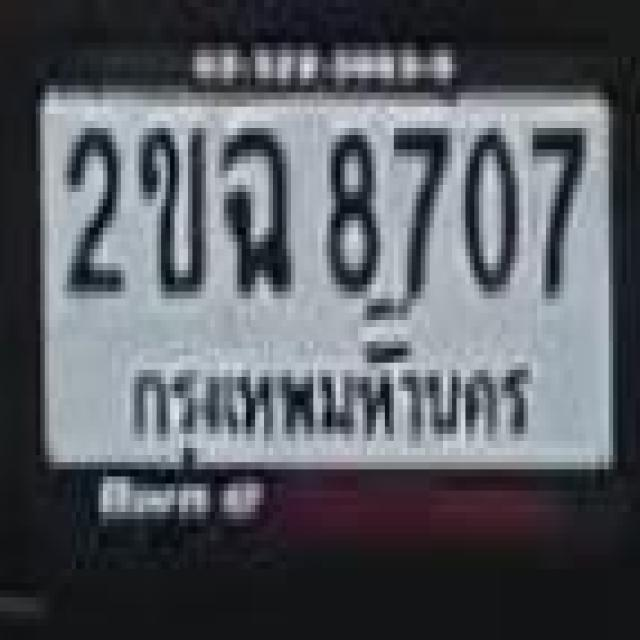license_plate: (25, 49, 628, 536)
